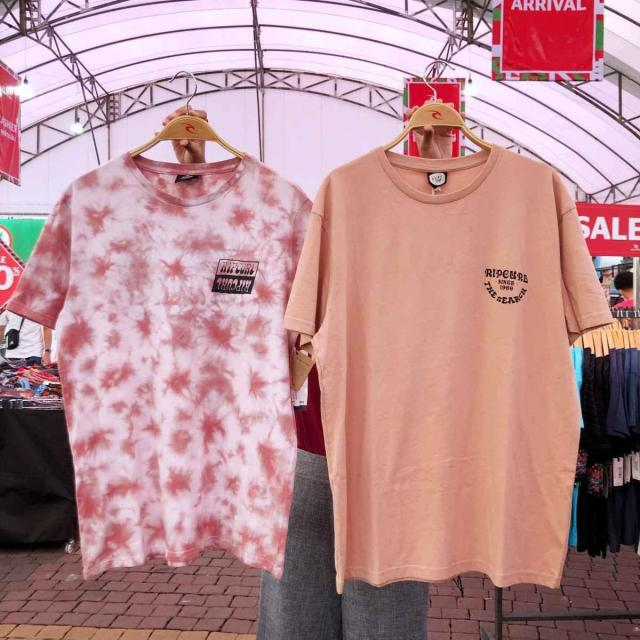Tshirt: (290, 146, 616, 580), (11, 157, 303, 566)
